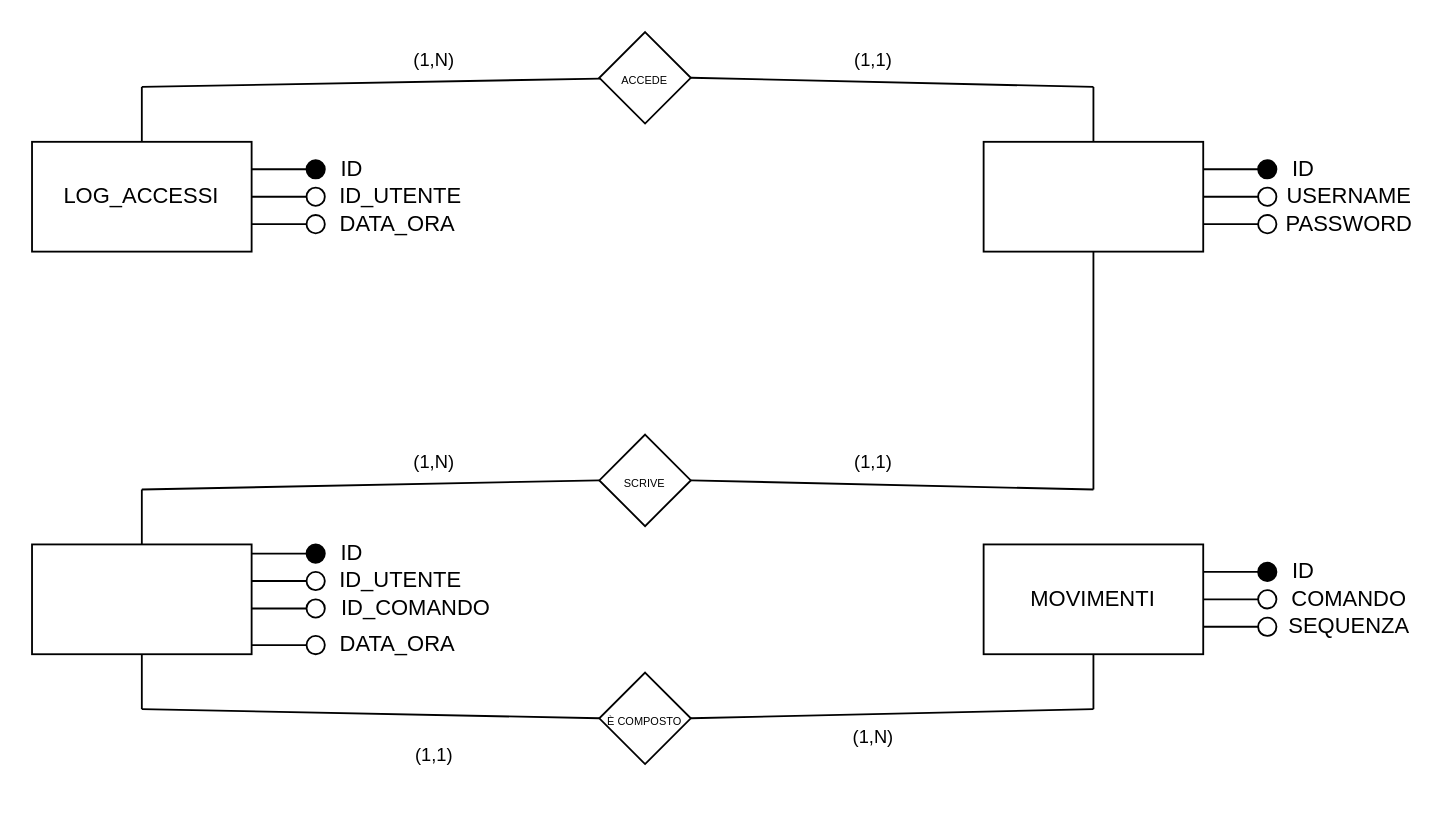
Some shapes in this 1455 by 814 pixel diagram are drawn without their labels. Each missing label, with the box of its shape:
LOG_COMANDI: (30, 543, 252, 654)
USERS: (982, 140, 1203, 252)
